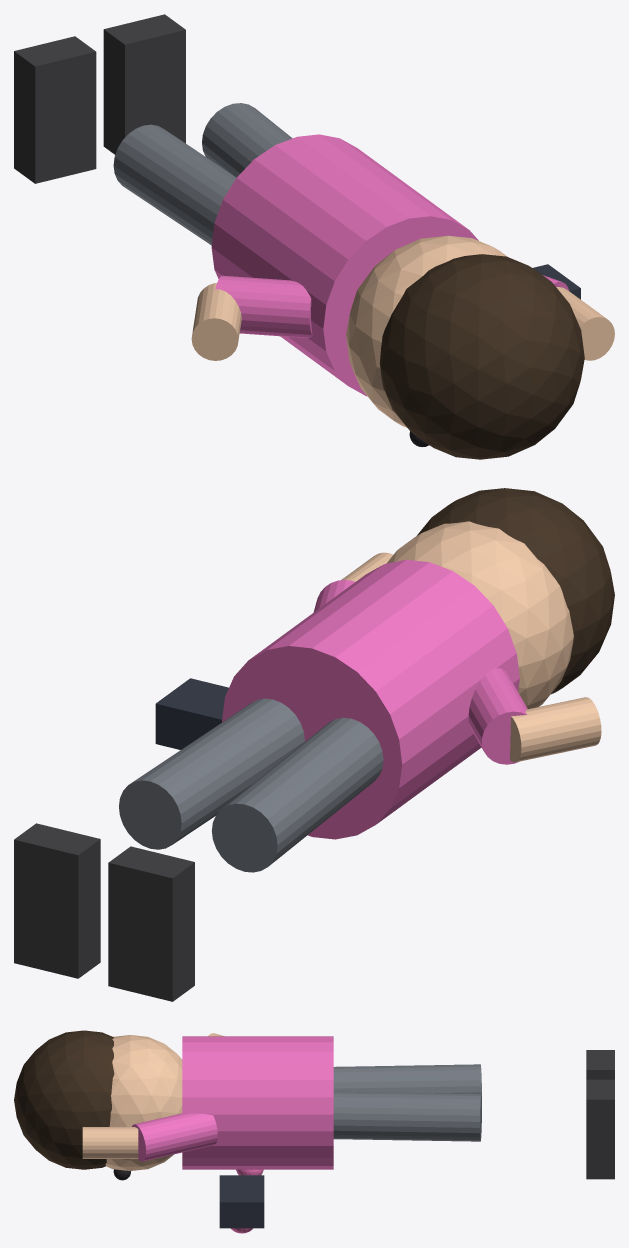
The model's file is Content_Buddy.glb.
3 views of the same model, one above another, from view 1: azimuth 30°, elevation 25°; view 2: azimuth 150°, elevation 25°; view 3: azimuth 270°, elevation 25° (orthographic). The views are drawn at different scales.
Parts seen in each view (by area): view 1: hair, torso, shoe.L, shoe.R, leg.L, head, arm.L, leg.R, forearm.L, forearm.R; view 2: torso, leg.L, leg.R, head, shoe.R, shoe.L, hair, forearm.L, camera, arm.L; view 3: torso, hair, leg.R, head, leg.L, arm.R, shoe.R, camera, forearm.R, shoe.L.
Part boxes in pixels (<box>): hair: <box>379,254,584,459</box>; torso: <box>211,134,478,396</box>; shoe.L: <box>14,36,96,183</box>; shoe.R: <box>103,14,185,154</box>; leg.L: <box>113,124,236,245</box>; head: <box>346,235,507,427</box>; arm.L: <box>215,275,312,337</box>; leg.R: <box>202,103,292,177</box>; forearm.L: <box>191,283,241,360</box>; forearm.R: <box>556,287,614,360</box>; torso: <box>222,559,519,839</box>; leg.L: <box>212,717,383,872</box>; leg.R: <box>119,698,304,849</box>; head: <box>386,521,573,708</box>; shoe.R: <box>14,823,100,978</box>; shoe.L: <box>108,846,194,1001</box>; hair: <box>417,488,614,694</box>; forearm.L: <box>510,697,601,762</box>; camera: <box>155,678,228,749</box>; arm.L: <box>468,668,527,764</box>; torso: <box>182,1036,333,1169</box>; hair: <box>14,1030,114,1169</box>; leg.R: <box>333,1091,481,1141</box>; head: <box>105,1035,182,1170</box>; leg.L: <box>333,1064,481,1096</box>; arm.R: <box>132,1113,217,1161</box>; shoe.R: <box>586,1079,614,1179</box>; camera: <box>219,1175,264,1228</box>; forearm.R: <box>82,1127,138,1158</box>; shoe.L: <box>586,1050,614,1079</box>.
Size of the model in its own units: 1.91 by 0.99 by 3.77.
